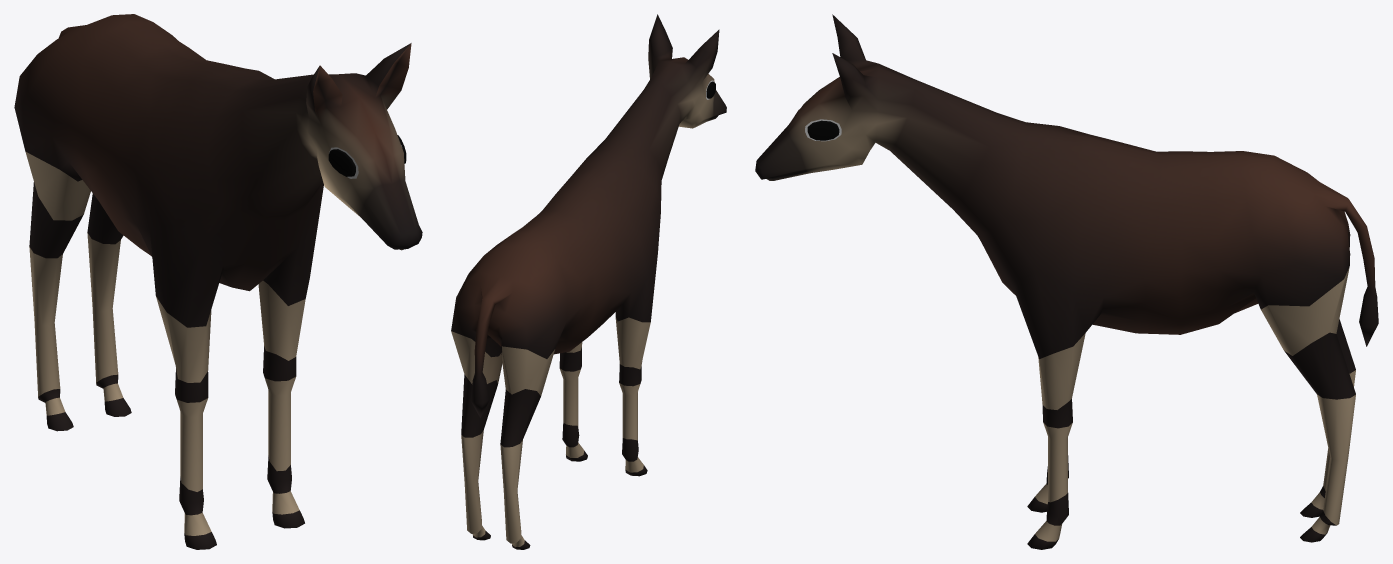
File: kit-okapi.glb
3 views of the same model, side by side, from view 1: azimuth 30°, elevation 25°; view 2: azimuth 150°, elevation 25°; view 3: azimuth 270°, elevation 25° (orthographic). The views are drawn at different scales.
Visible parts, largest first — view 1: base; view 2: base; view 3: base.
Boxes of the visible parts, x1,y1,x2,y2 form: base: (14,14,422,549); base: (451,14,726,549); base: (755,14,1378,549).
Bounding box in the file's own units: 0.4566 × 1.59 × 1.83.
